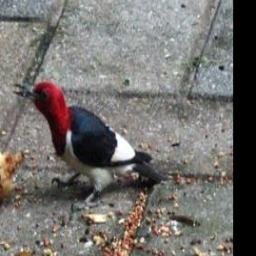Woodpecker: (7, 73, 171, 218)
